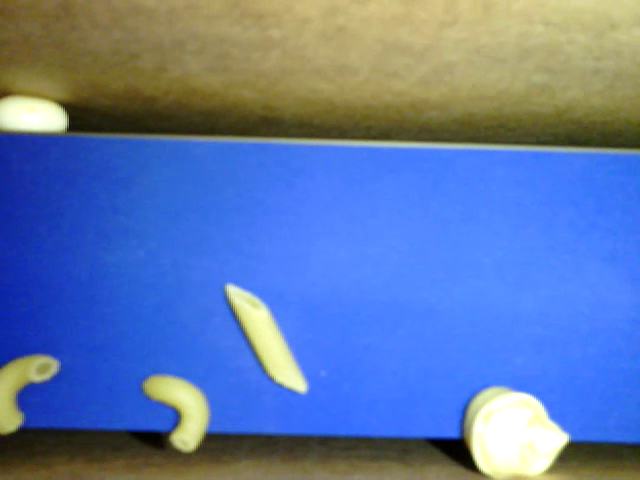elbow: (143, 373, 212, 453), (1, 354, 62, 434)
penne: (225, 282, 308, 393)
tortellini: (462, 384, 571, 478)
